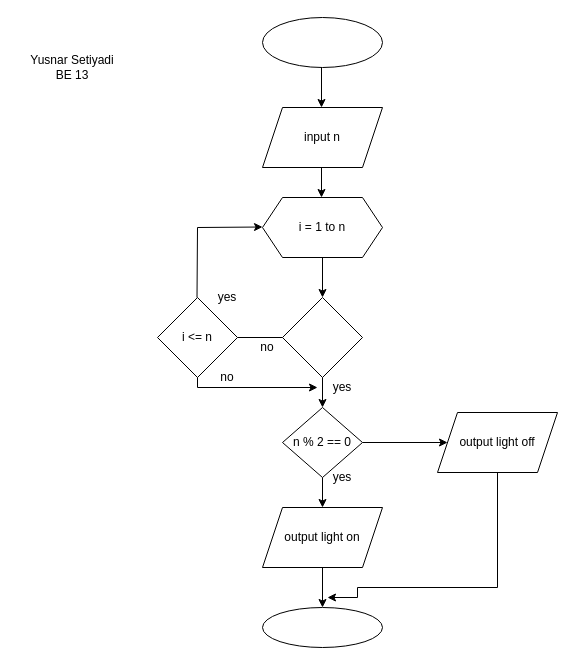
The diagram is 575 pixels wide and 665 high, and some of its shapes have lost their labels. Each missing label, with the centre of its shape:
done: the point at 322,627
n % i == 0: the point at 322,337
start: the point at 322,42
